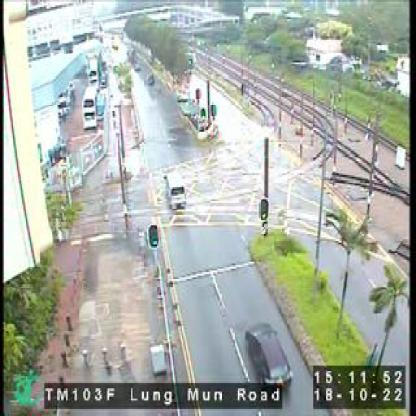Bus: (83, 87, 99, 129)
Car: (244, 321, 294, 393), (164, 170, 187, 209)
